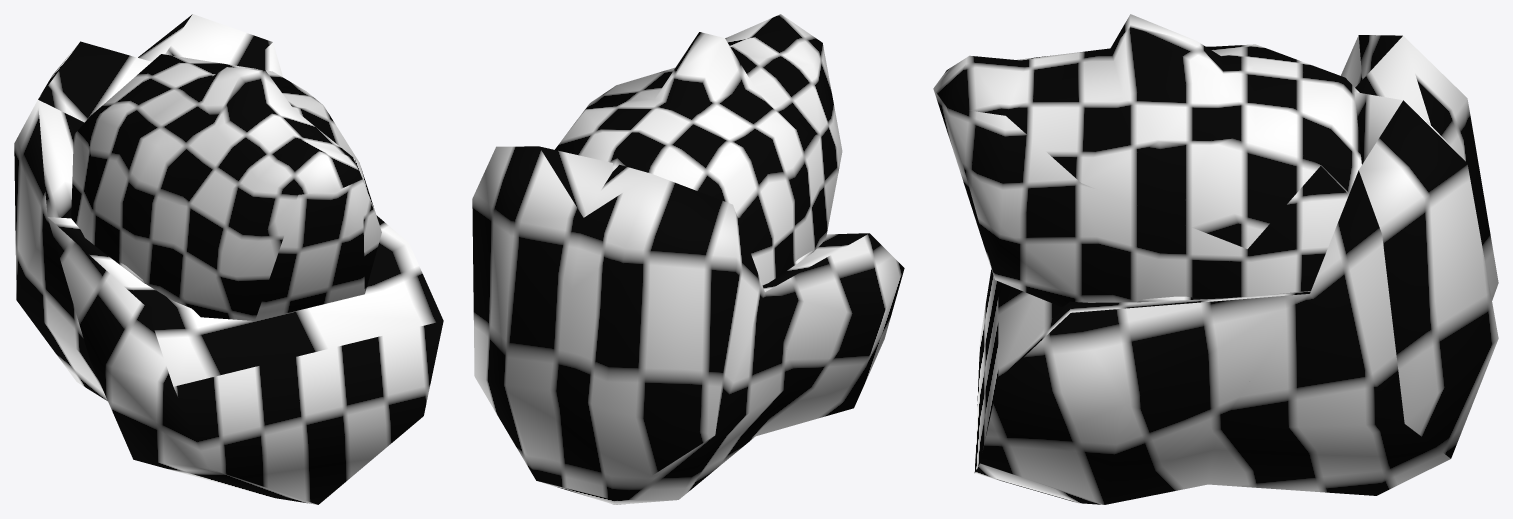
Rendered from infaunhumath1.dae.
3 renders of one model, left to right at view 1: azimuth 30°, elevation 25°; view 2: azimuth 150°, elevation 25°; view 3: azimuth 270°, elevation 25°, orthographic. The views are drawn at different scales.
Parts seen in each view (by area): view 1: face; view 2: face; view 3: face.
Boxes of the visible parts, left/top/right/bottom form: face: left=14, top=14, right=443, bottom=504; face: left=472, top=14, right=904, bottom=504; face: left=933, top=14, right=1498, bottom=504.
Size of the model in its own units: 1.2 by 1.51 by 1.42.
Materials: 1 (1 with a texture image).
